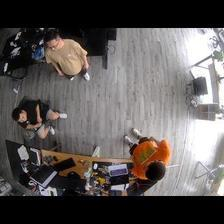normal: (123, 126, 170, 180), (40, 33, 90, 79), (11, 100, 69, 139)
